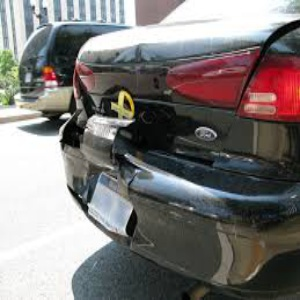bumper: (77, 180, 152, 245)
